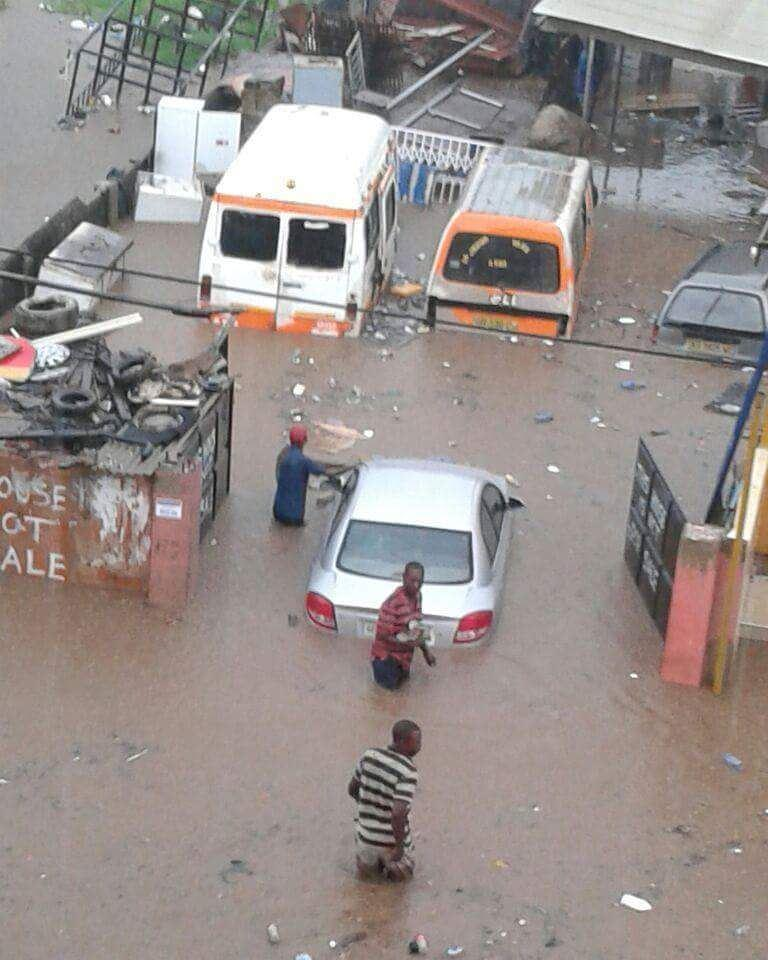victim: (337, 704, 428, 900), (353, 556, 448, 700), (272, 424, 363, 546)
